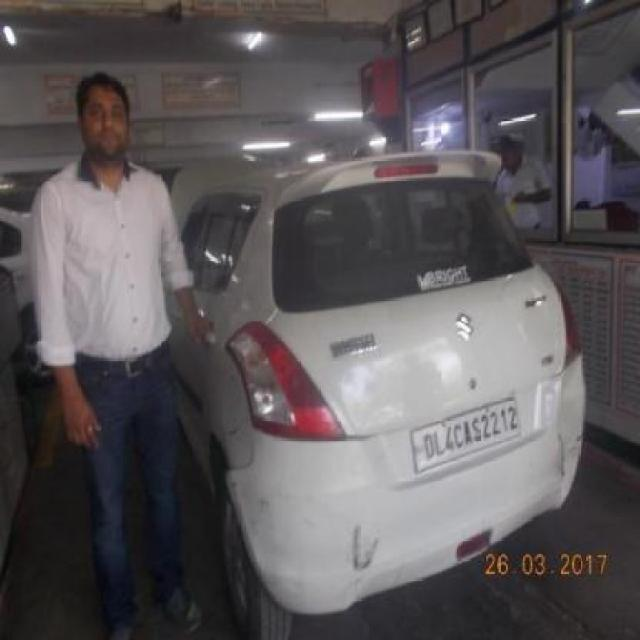damage: (351, 522, 379, 579), (555, 429, 570, 486)
